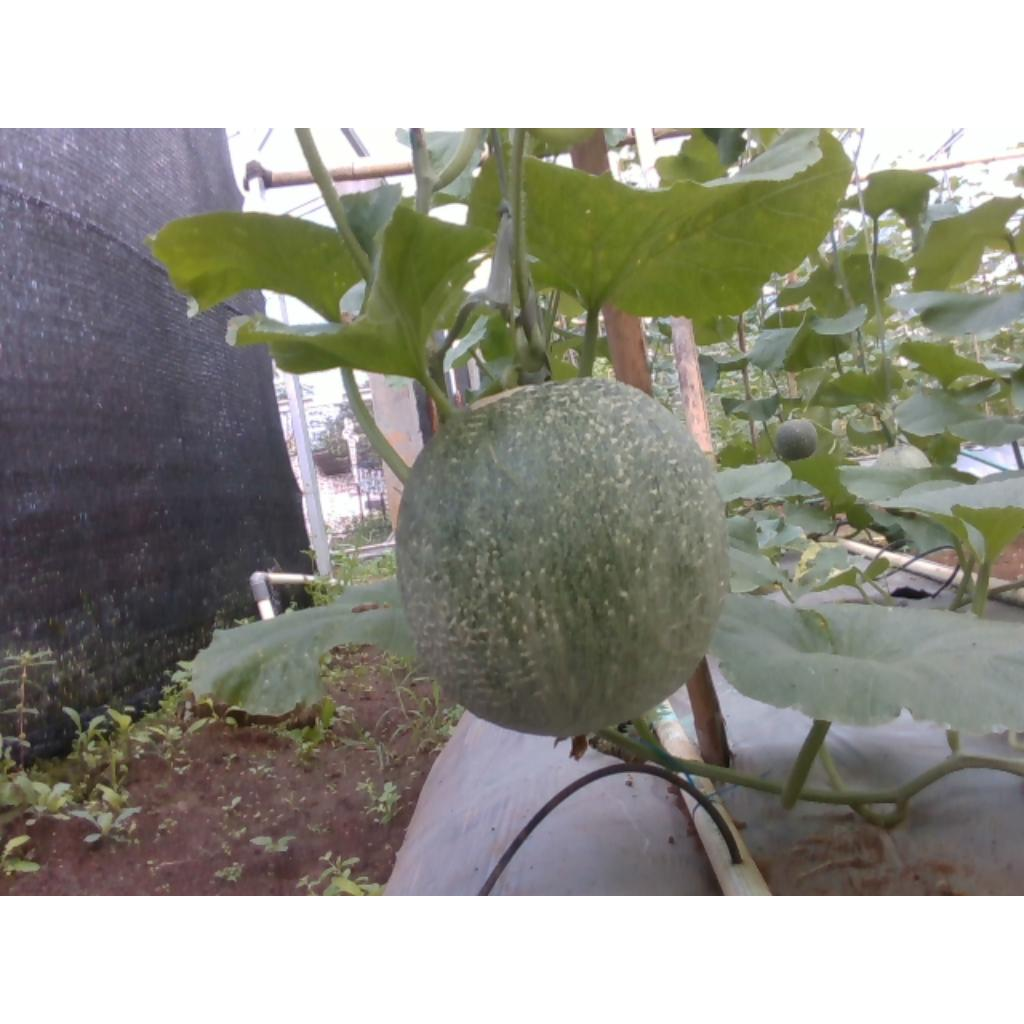melon: (397, 378, 731, 737)
